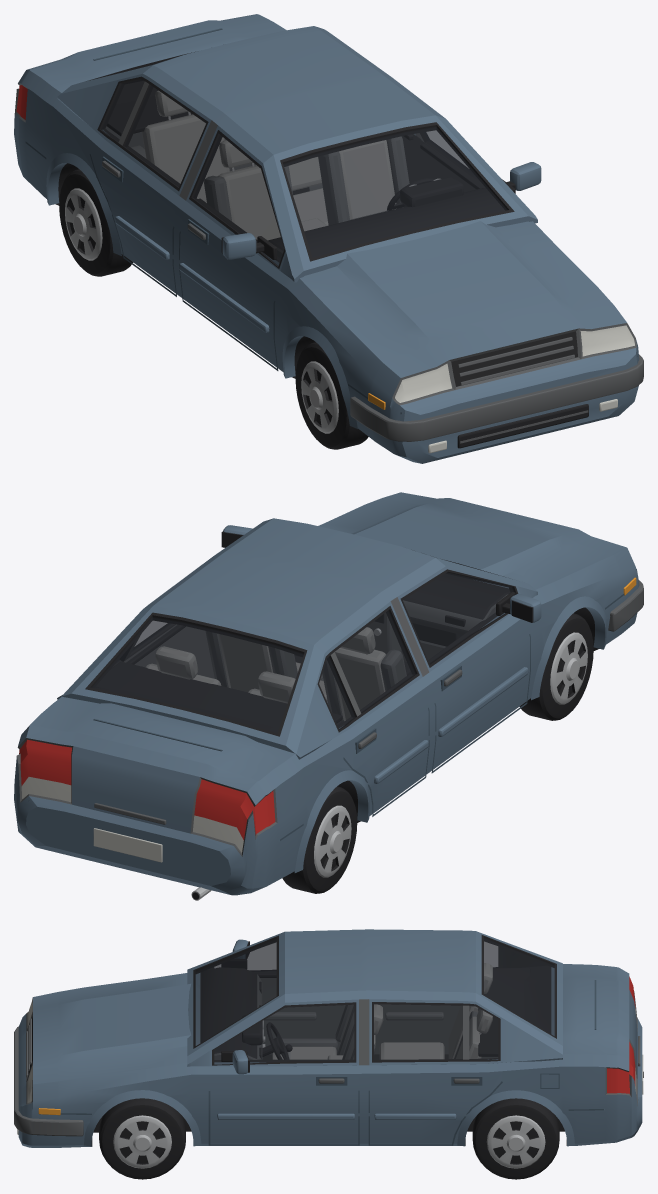
File: SedanBuck.fbx
3 views of the same model, one above another, from view 1: azimuth 30°, elevation 25°; view 2: azimuth 150°, elevation 25°; view 3: azimuth 270°, elevation 25° (orthographic). The views are drawn at different scales.
Parts seen in each view (by area): view 1: Body, Interior, Roof, Windshield, Door_FR, Door_RR, Door_FL; view 2: Body, Roof, Interior, Door_FR, Door_RR, RearWindow, Door_RL, Door_FL; view 3: Body, Door_FL, Door_RL, Roof, Interior, Windshield, RearWindow, Door_FR, Door_RR.
Part boxes in pixels (x1,y1,x2,y2): Body: (14, 14, 643, 463); Interior: (107, 90, 504, 258); Roof: (143, 26, 445, 162); Windshield: (283, 127, 506, 257); Door_FR: (179, 125, 286, 370); Door_RR: (89, 73, 211, 296); Door_FL: (418, 130, 541, 193); Body: (14, 492, 643, 900); Roof: (143, 518, 445, 653); Interior: (95, 573, 510, 727); Door_FR: (397, 566, 541, 773); Door_RR: (316, 601, 429, 816); RearWindow: (92, 617, 303, 732); Door_RL: (112, 621, 187, 667); Door_FL: (193, 525, 252, 678); Body: (14, 931, 643, 1179); Door_FL: (208, 999, 359, 1145); Door_RL: (368, 999, 502, 1145); Roof: (285, 929, 475, 1002); Interior: (200, 963, 530, 1059); Windshield: (196, 939, 276, 1045); RearWindow: (484, 938, 554, 1035); Door_FR: (210, 939, 345, 1052); Door_RR: (375, 941, 502, 1053).
Bounding box in the file's own units: 2.21 × 1.5 × 4.85.
